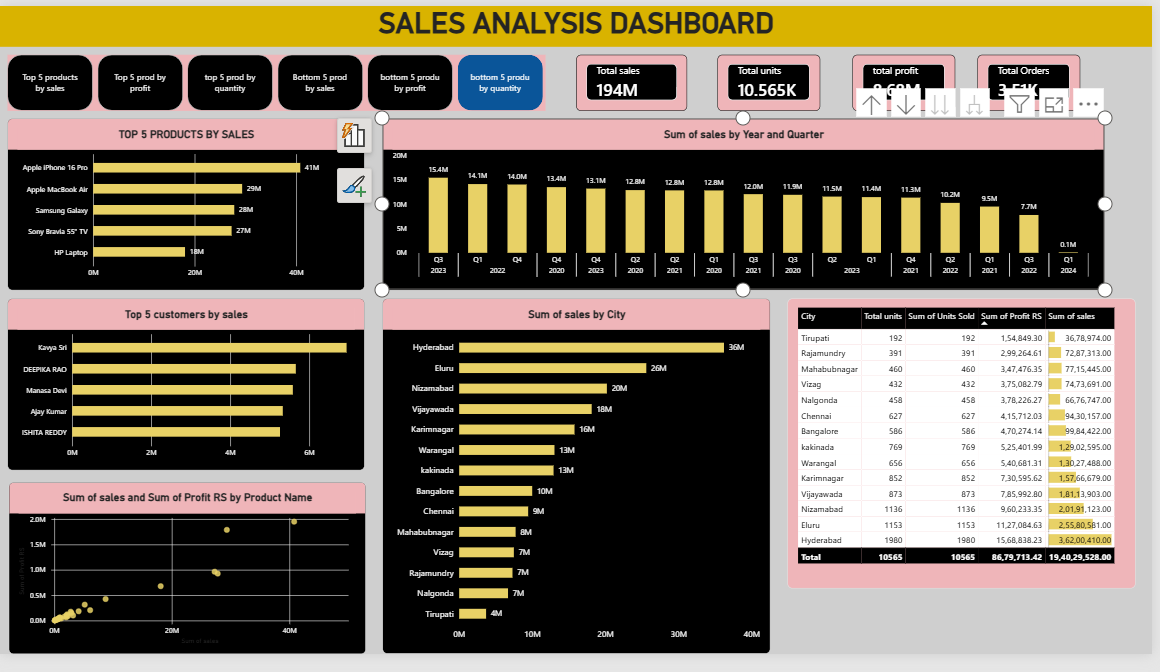

This screenshot's page, from the dashboard's own definition file:
{"tool":"powerbi","page":{"name":"Page 1","canvas":[1920,1080],"ordinal":0},"visuals":[{"type":"textbox","title":"SALES ANALYSIS DASHBOARD","box":[0,0,1920.3,67.8],"z":0},{"type":"barChart","title":"TOP 5 PRODUCTS BY SALES","fields":{"Category":["dproduct.Product Name"],"Y":["Sum(fsales.sales)"]},"box":[11.7,186.7,595,286.7],"z":4000},{"type":"bookmarkNavigator","box":[13.3,81.7,896.7,93.3],"z":7000},{"type":"lineStackedColumnComboChart","fields":{"Category":["dDate.Year","dDate.Quarter"],"Y":["Sum(fsales.sales)"]},"box":[638.3,186.7,1203.3,286.7],"z":8000},{"type":"scatterChart","fields":{"Category":["dproduct.Product Name"],"X":["Sum(fsales.sales)"],"Y":["Sum(fsales.Profit RS)"]},"box":[15,793.3,595,286.7],"z":9000},{"type":"cardVisual","title":"TOTAL SALES","fields":{"Data":["Measure table1.Total sales"]},"box":[960,81.7,185,93.3],"z":10000},{"type":"cardVisual","title":"TOTAL SALES","fields":{"Data":["Measure table1.Total units"]},"box":[1196.7,81.7,171.2,93.2],"z":11000},{"type":"cardVisual","title":"TOTAL SALES","fields":{"Data":["Measure table1.total profit"]},"box":[1420,81.7,171.2,93.2],"z":12000},{"type":"barChart","title":"Top 5 customers by sales","fields":{"Category":["dcustomer.Customer Name"],"Y":["Sum(fsales.sales)"]},"box":[13.3,488.3,595,286.7],"z":13000},{"type":"cardVisual","title":"TOTAL SALES","fields":{"Data":["Measure table1.Total Orders"]},"box":[1628.3,81.7,171.2,93.2],"z":14000},{"type":"barChart","fields":{"Category":["dcustomer.City"],"Y":["Sum(fsales.sales)"]},"box":[636.7,488.3,646.7,591.7],"z":15000},{"type":"tableEx","fields":{"Values":["dcustomer.City","Measure table1.Total units","Sum(fsales.Units Sold)","Sum(fsales.Profit RS)","Sum(fsales.sales)"]},"box":[1311.7,488.3,580,483.3],"z":16000}]}

Visuals, with their boxes in screenshot pixels (x1, y1, x2, y2), scaled from the page's 1920x1080 canvas onto the 1160x672 screenshot:
"SALES ANALYSIS DASHBOARD" textbox: pyautogui.locateOnScreen(0, 0, 1159, 42)
"TOP 5 PRODUCTS BY SALES" barChart: pyautogui.locateOnScreen(7, 116, 367, 295)
bookmarkNavigator: pyautogui.locateOnScreen(8, 51, 550, 109)
lineStackedColumnComboChart - dDate.Year x dDate.Quarter: pyautogui.locateOnScreen(386, 116, 1113, 295)
scatterChart - dproduct.Product Name x Sum(fsales.sales): pyautogui.locateOnScreen(9, 494, 369, 671)
"TOTAL SALES" cardVisual: pyautogui.locateOnScreen(580, 51, 692, 109)
"TOTAL SALES" cardVisual: pyautogui.locateOnScreen(723, 51, 826, 109)
"TOTAL SALES" cardVisual: pyautogui.locateOnScreen(858, 51, 961, 109)
"Top 5 customers by sales" barChart: pyautogui.locateOnScreen(8, 304, 368, 482)
"TOTAL SALES" cardVisual: pyautogui.locateOnScreen(984, 51, 1087, 109)
barChart - dcustomer.City x Sum(fsales.sales): pyautogui.locateOnScreen(385, 304, 775, 671)
tableEx - dcustomer.City x Measure table1.Total units: pyautogui.locateOnScreen(792, 304, 1143, 605)
